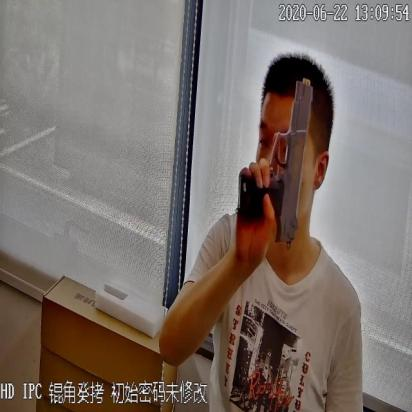Gun: (232, 73, 315, 250)
